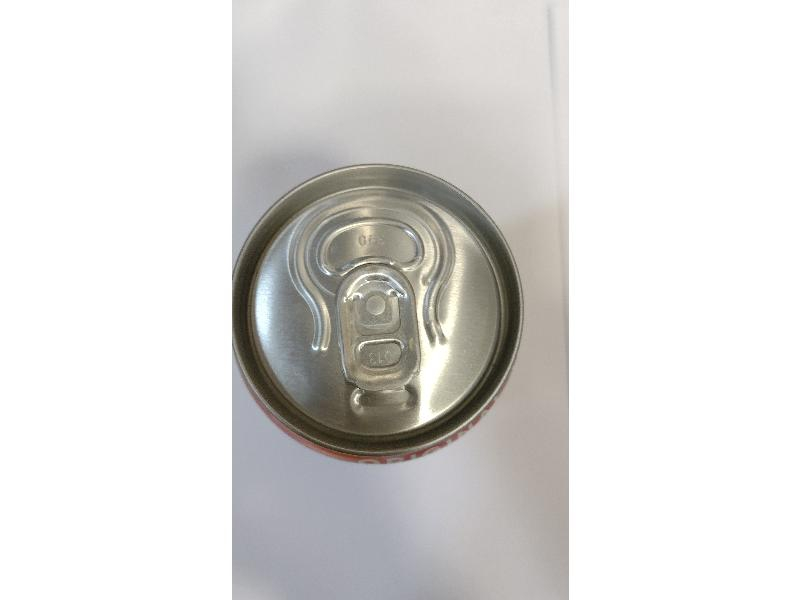can: (232, 164, 521, 451)
